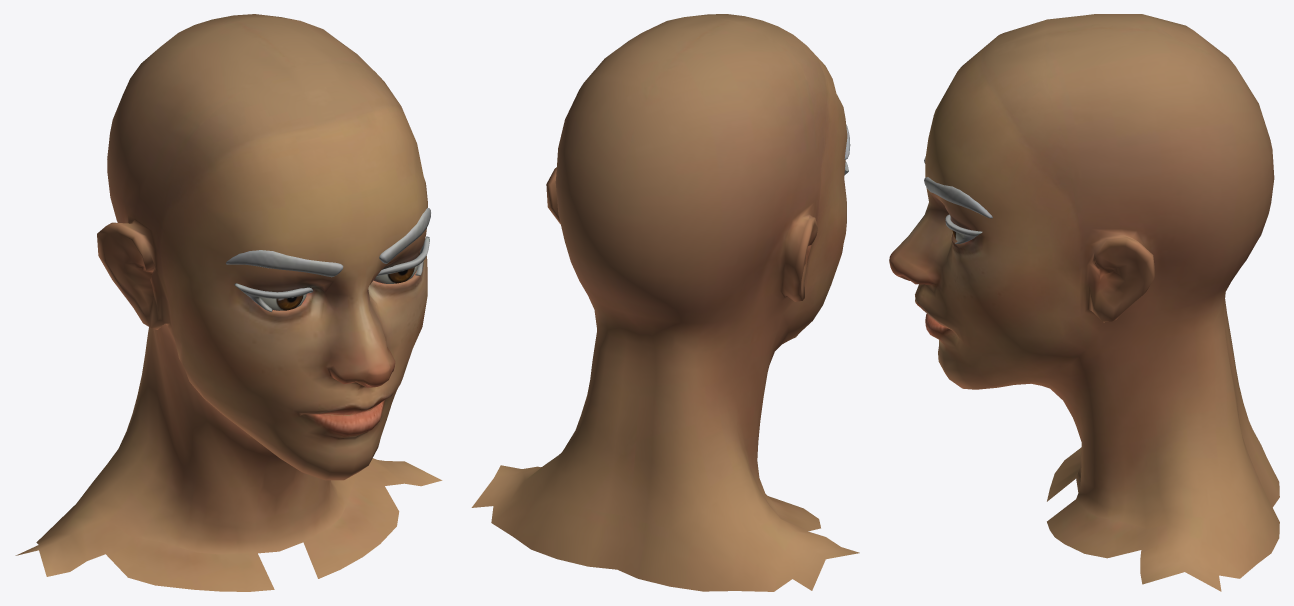
File: Female_Head.glb
3 views of the same model, side by side, from view 1: azimuth 30°, elevation 25°; view 2: azimuth 150°, elevation 25°; view 3: azimuth 270°, elevation 25° (orthographic). The views are drawn at different scales.
Parts seen in each view (by area): view 1: Superhero_Female, Eyebrows, Eyes; view 2: Superhero_Female; view 3: Superhero_Female, Eyebrows.
Boxes of the visible parts, box(x1,y1,x2,y2) form: Superhero_Female: box(15, 14, 442, 591); Eyebrows: box(226, 208, 430, 311); Eyes: box(261, 265, 417, 310); Superhero_Female: box(471, 14, 859, 591); Superhero_Female: box(889, 14, 1279, 591); Eyebrows: box(924, 157, 992, 243).
Size of the model in its own units: 0.2462 by 0.3113 by 0.228.
3 materials, 3 textured.
